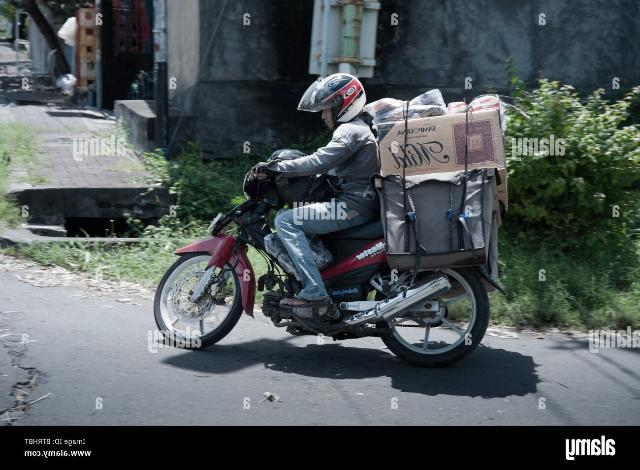helm: (298, 74, 368, 134)
motor: (150, 156, 509, 368)
